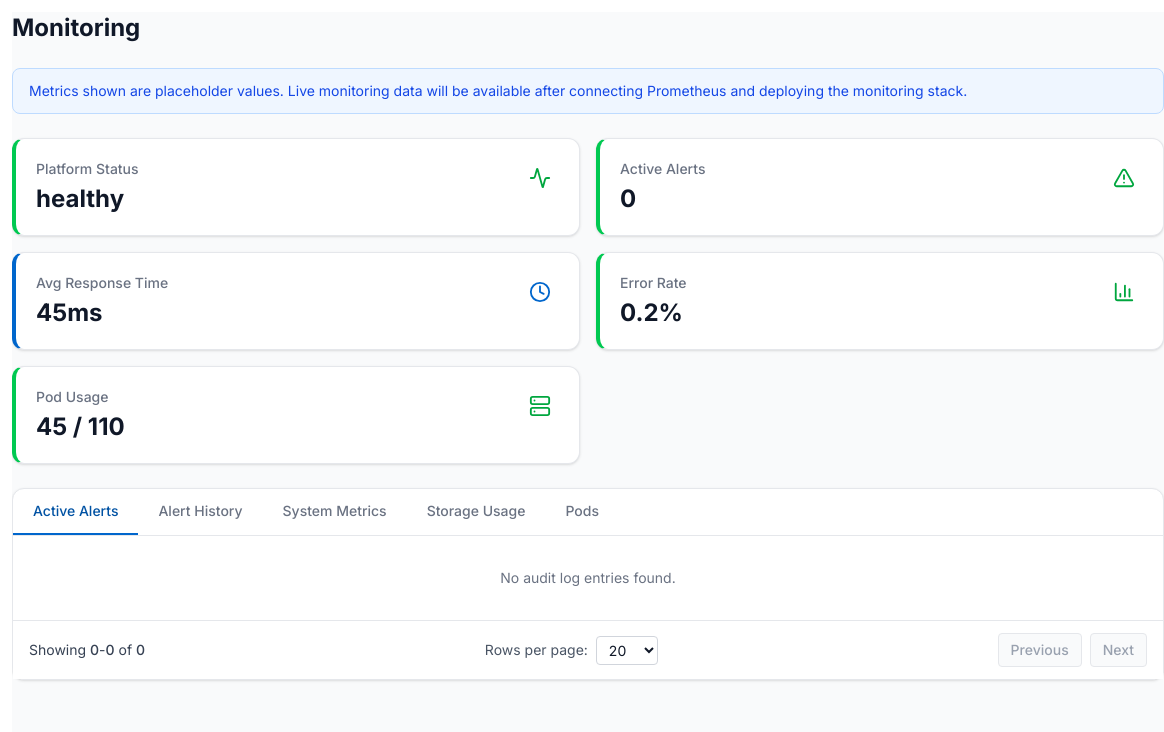
Test: Monitoring Pods tab › searches pods by name
This screenshot has width=1164, height=732.
Click the button with test id "tab-pods": (582, 512) [545, 489, 619, 535]
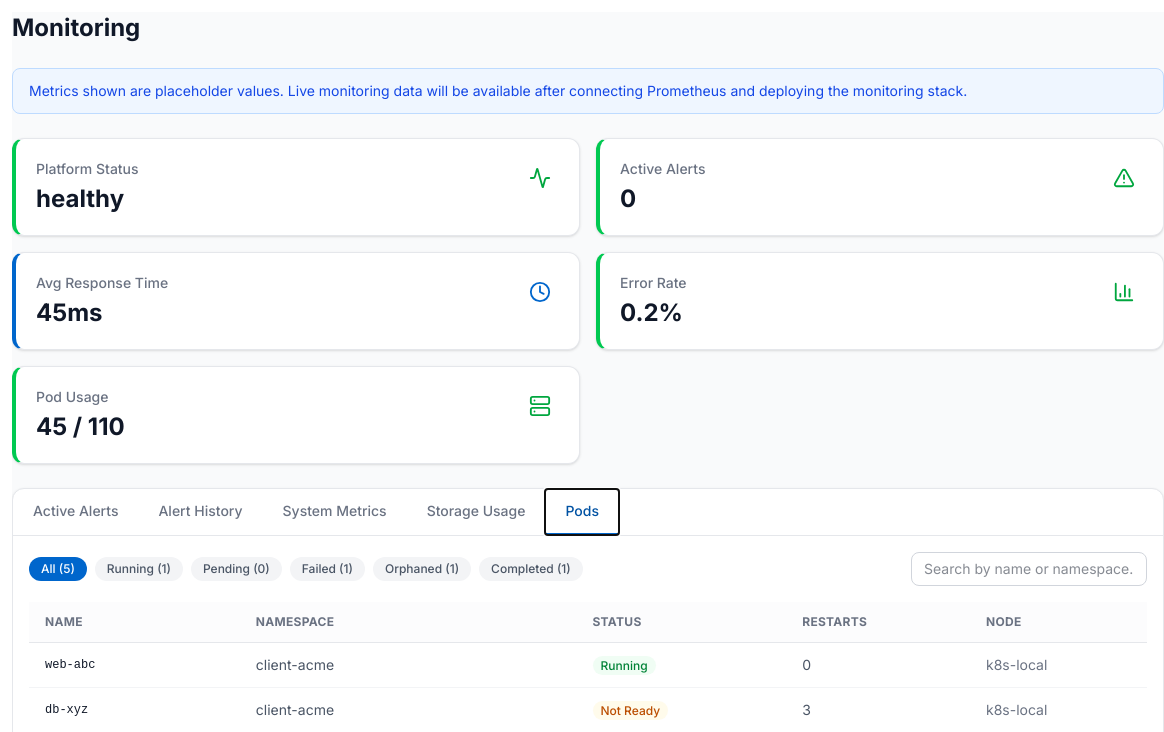
In the field with test id "pod-search": (1029, 569) [911, 552, 1147, 586], type "crash"
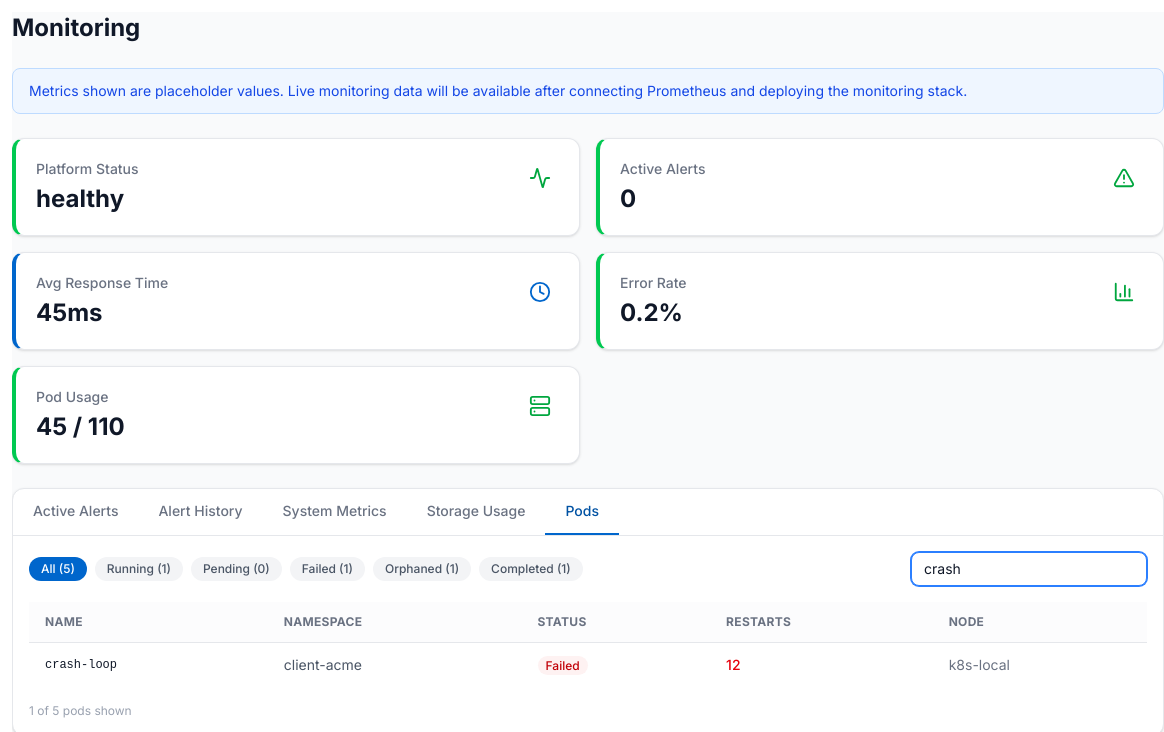
Expected: the text "crash-loop" is shown, [29, 642, 268, 687]
Expected: the text "web-abc" is gone
